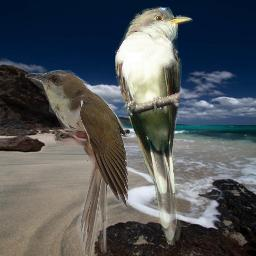Cuckoo: (25, 69, 128, 256), (115, 6, 193, 247)
